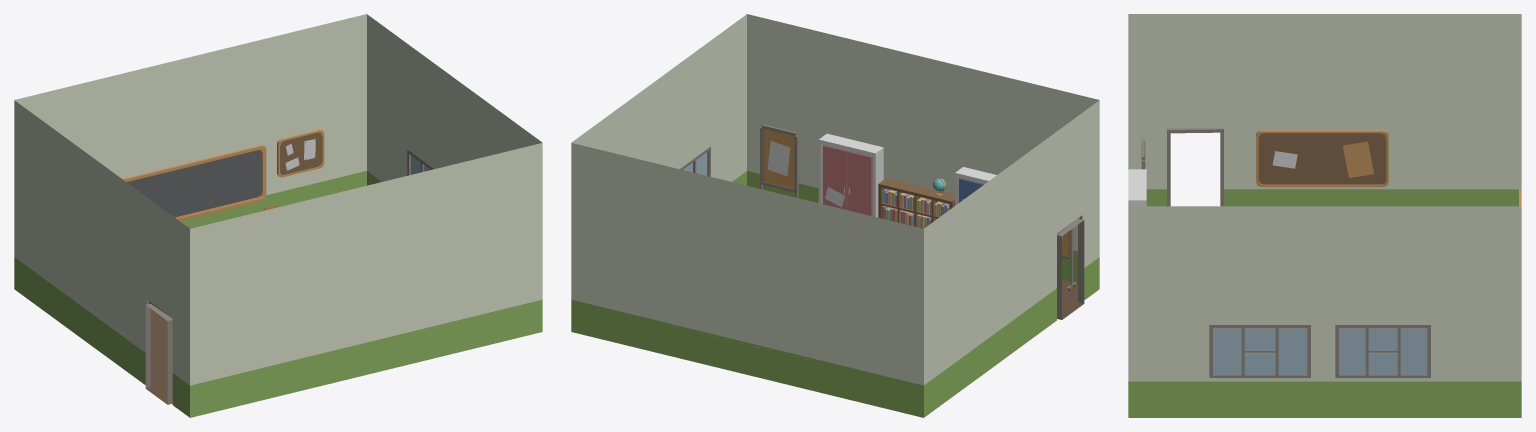
File: sala.fbx
3 views of the same model, side by side, from view 1: azimuth 30°, elevation 25°; view 2: azimuth 150°, elevation 25°; view 3: azimuth 270°, elevation 25° (orthographic). The views are drawn at different scales.
Visible parts, largest first — view 1: Sala, Quadro, Quadro.001; view 2: Sala, Plane.003, Cube.000, Plane.006, Plane.005, Plane.004; view 3: Sala, Quadro.002, Plane.004.
Boxes of the visible parts, left/top/right/bottom form: Sala: left=14, top=14, right=542, bottom=417; Quadro: left=122, top=145, right=266, bottom=221; Quadro.001: left=277, top=129, right=324, bottom=177; Sala: left=571, top=14, right=1099, bottom=417; Plane.003: left=818, top=133, right=883, bottom=217; Cube.000: left=760, top=124, right=798, bottom=198; Plane.006: left=882, top=188, right=949, bottom=228; Plane.005: left=878, top=178, right=954, bottom=226; Plane.004: left=955, top=167, right=996, bottom=205; Sala: left=1128, top=14, right=1521, bottom=417; Quadro.002: left=1256, top=130, right=1388, bottom=186; Plane.004: left=1128, top=169, right=1146, bottom=206.
Bounding box in the file's own units: 1261 × 637 × 1074.
